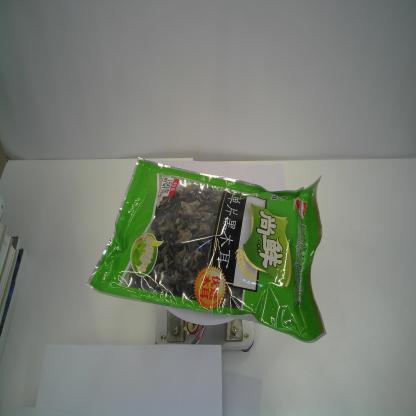Dried Food: (84, 155, 327, 345)
